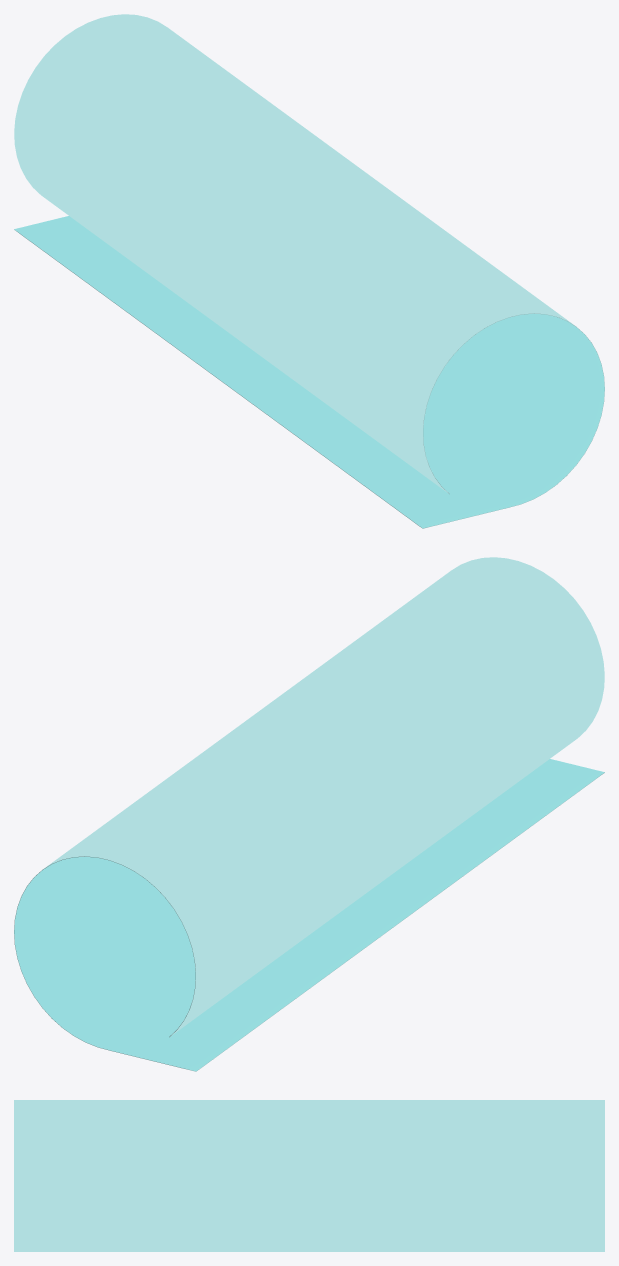
File: Level 95.fbx
3 renders of one model, top to bottom at view 1: azimuth 30°, elevation 25°; view 2: azimuth 150°, elevation 25°; view 3: azimuth 270°, elevation 25°, orthographic. The views are drawn at different scales.
Parts seen in each view (by area): view 1: oxygen_cylinder; view 2: oxygen_cylinder; view 3: oxygen_cylinder.
Boxes of the visible parts, x1,y1,x2,y2 form: oxygen_cylinder: [14, 14, 604, 528]; oxygen_cylinder: [14, 557, 604, 1071]; oxygen_cylinder: [14, 1100, 604, 1251].
Size of what is drawn, in the model's own units: 183 by 183 by 712.
